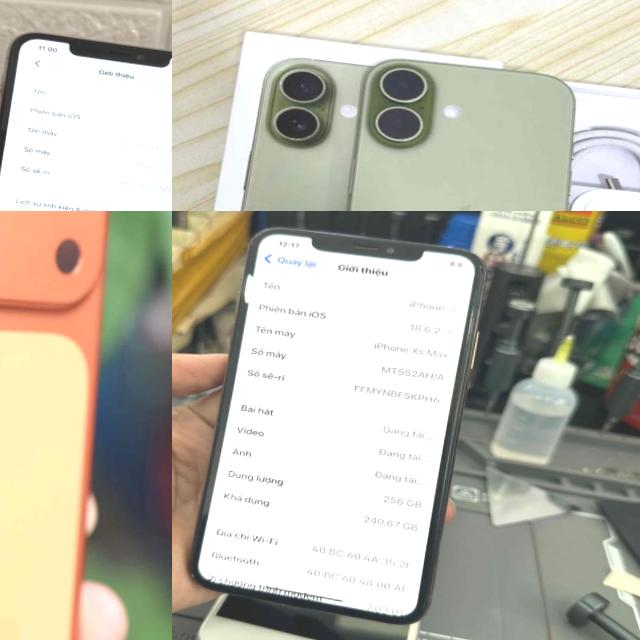gen_11: (0, 23, 172, 211)
gen_17: (0, 211, 162, 640), (326, 49, 603, 211)
gen_x_xs: (190, 228, 485, 622)
scratch: (179, 564, 204, 589)
